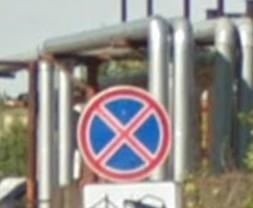No Parking: (77, 87, 173, 184)
